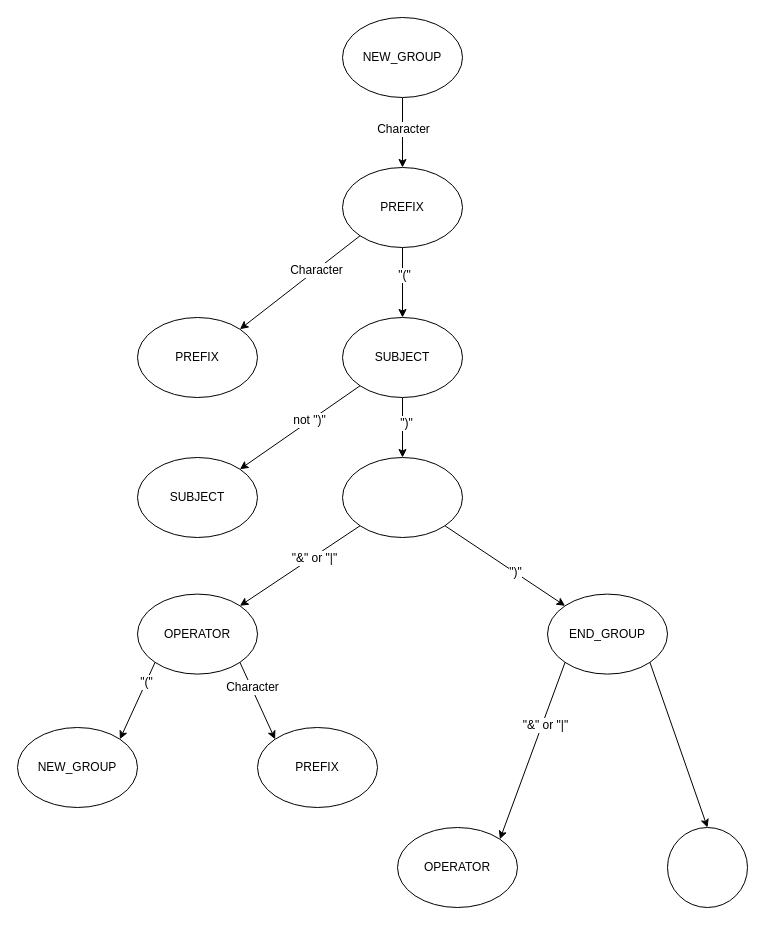
Some shapes in this 765 by 925 pixel diagram are drawn without their labels. The shapes that lost their labels are listed below. From the top down, each one's centre as x and y in pixels, then its label:
At [402,497]: "END_RULE".
At [707,867]: "END".
